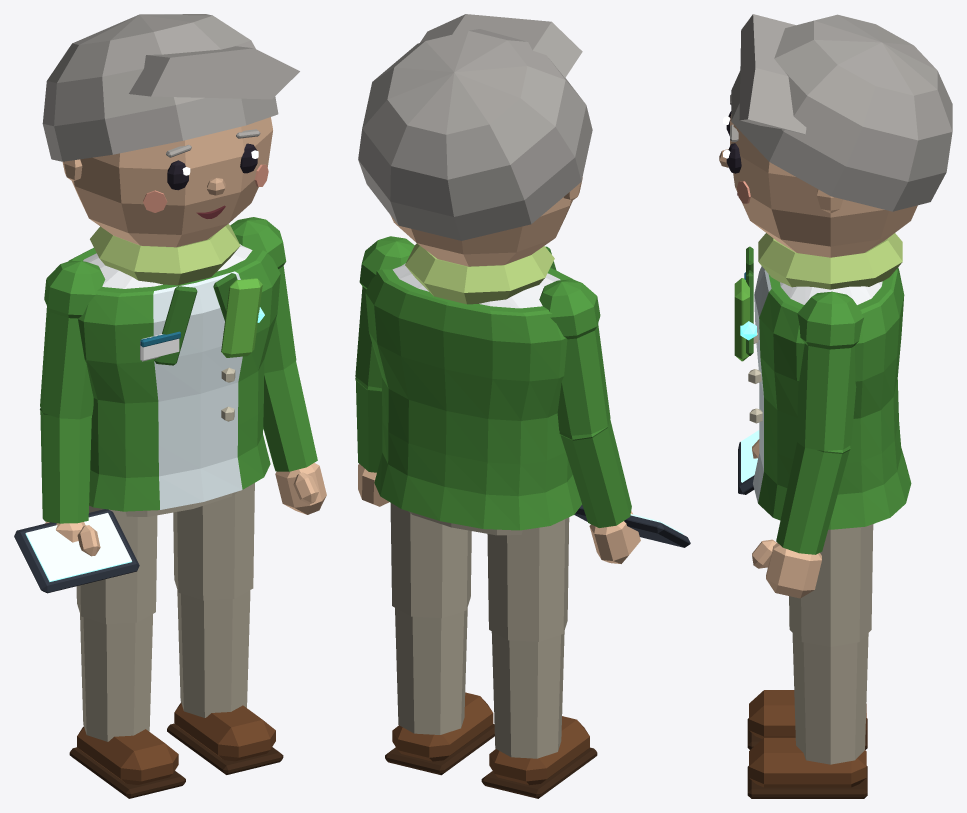
File: man_ver.glb
3 renders of one model, left to right at view 1: azimuth 30°, elevation 25°; view 2: azimuth 150°, elevation 25°; view 3: azimuth 270°, elevation 25°, orthographic.
Visible parts, largest first — view 1: jacke, haare, bein_l, kopf, bein_r, arm_r, kragen, arm_l, gegenstand_terminal, schuh_l, schuh_r, gesicht (+6 smaller); view 2: jacke, haare, bein_r, bein_l, arm_r, kragen, arm_l, kopf, schuh_r, schuh_l, hand_r, torso (+2 smaller); view 3: haare, jacke, bein_l, arm_l, kopf, kragen, schuh_l, hand_l, schuh_r, torso, gesicht, gegenstand_terminal (+1 smaller).
Part boxes in pixels (x1,y1,x2,y2): jacke: (68, 248, 280, 511); haare: (42, 14, 299, 161); bein_l: (173, 483, 254, 717); kopf: (62, 117, 272, 247); bein_r: (76, 505, 157, 741); arm_r: (40, 261, 105, 523); kragen: (90, 224, 262, 357); arm_l: (230, 217, 317, 471); gegenstand_terminal: (14, 509, 139, 593); schuh_l: (167, 702, 283, 774); schuh_r: (69, 726, 185, 798); gesicht: (143, 129, 268, 218); jacke: (365, 268, 581, 530); haare: (358, 14, 592, 240); bein_r: (487, 517, 569, 758); bein_l: (390, 503, 471, 734); arm_r: (539, 279, 631, 527); kragen: (405, 243, 554, 304); arm_l: (355, 236, 414, 472); kopf: (390, 177, 582, 266); schuh_r: (481, 716, 597, 798); schuh_l: (385, 692, 494, 775); hand_r: (589, 511, 640, 563); torso: (392, 263, 560, 308); haare: (731, 14, 952, 211); jacke: (753, 266, 911, 529); bein_l: (789, 525, 873, 764); arm_l: (776, 291, 864, 554); kopf: (730, 114, 917, 257); kragen: (734, 233, 902, 361); schuh_l: (747, 737, 867, 798); hand_l: (752, 539, 821, 598); schuh_r: (747, 690, 867, 749); torso: (780, 281, 882, 304); gesicht: (719, 94, 750, 203); gegenstand_terminal: (738, 430, 759, 494).
Size of the model in its own units: 0.012 by 0.0276 by 0.00798.
